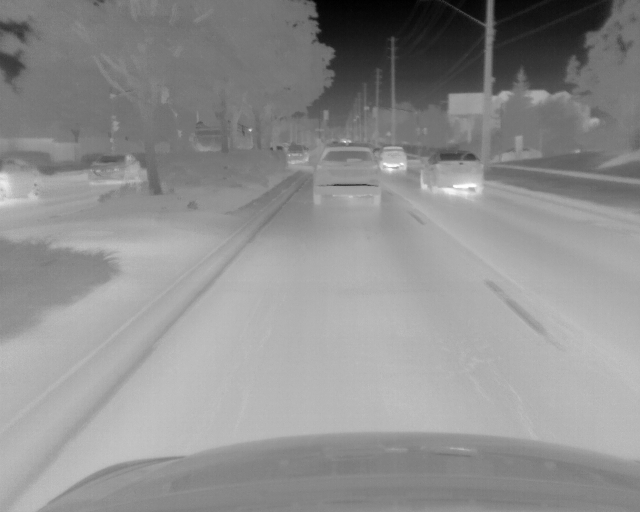car: (314, 147, 379, 204), (417, 151, 483, 197), (1, 158, 42, 204), (90, 153, 141, 182), (380, 145, 407, 172), (286, 147, 309, 164)
